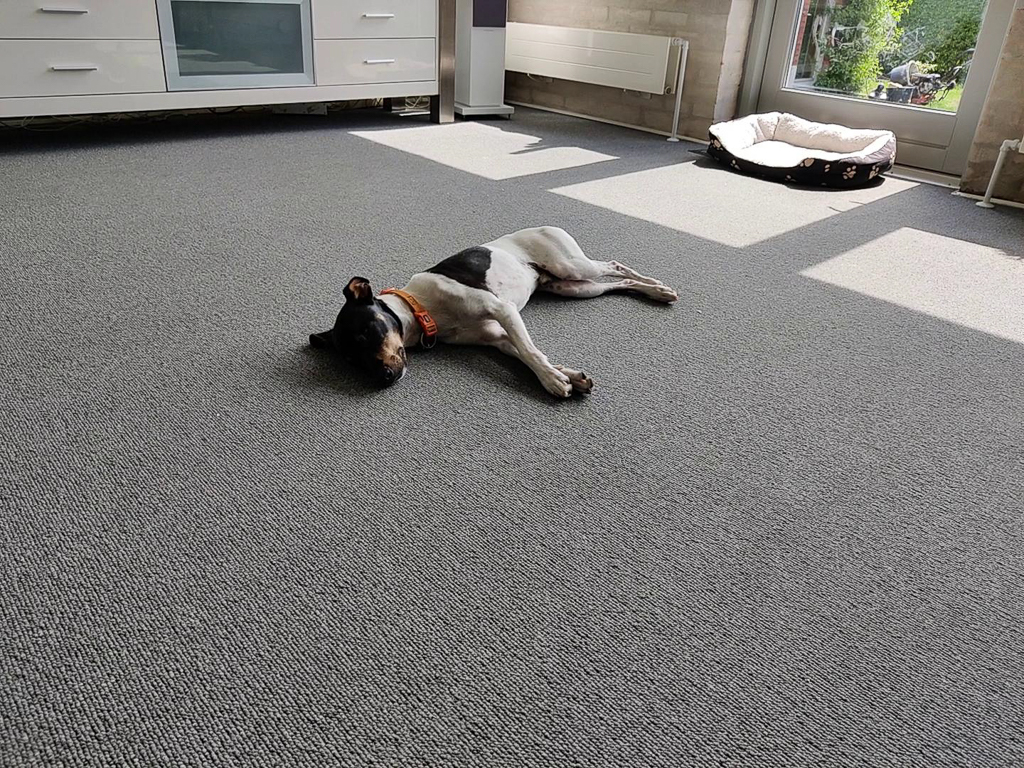Dog: (294, 210, 702, 426)
Humanoid: (864, 79, 892, 104)
